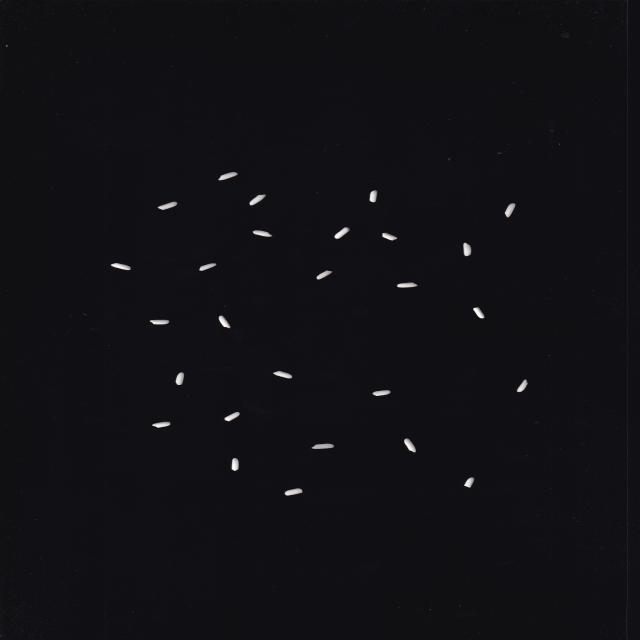Not: (249, 194, 266, 206), (218, 315, 232, 329), (334, 227, 350, 239), (218, 172, 239, 181), (272, 371, 293, 380), (157, 201, 178, 210), (404, 438, 416, 453), (504, 203, 516, 218), (110, 262, 132, 270), (316, 270, 333, 280), (224, 412, 240, 422), (516, 379, 528, 392), (284, 488, 303, 496), (252, 230, 273, 237), (199, 263, 217, 271), (473, 307, 485, 319), (382, 232, 398, 241), (372, 389, 391, 396), (152, 421, 171, 428), (175, 372, 185, 385), (397, 282, 418, 288), (463, 242, 472, 256), (150, 319, 170, 325), (310, 444, 334, 449), (231, 458, 239, 472), (464, 477, 474, 488), (369, 190, 378, 202)
